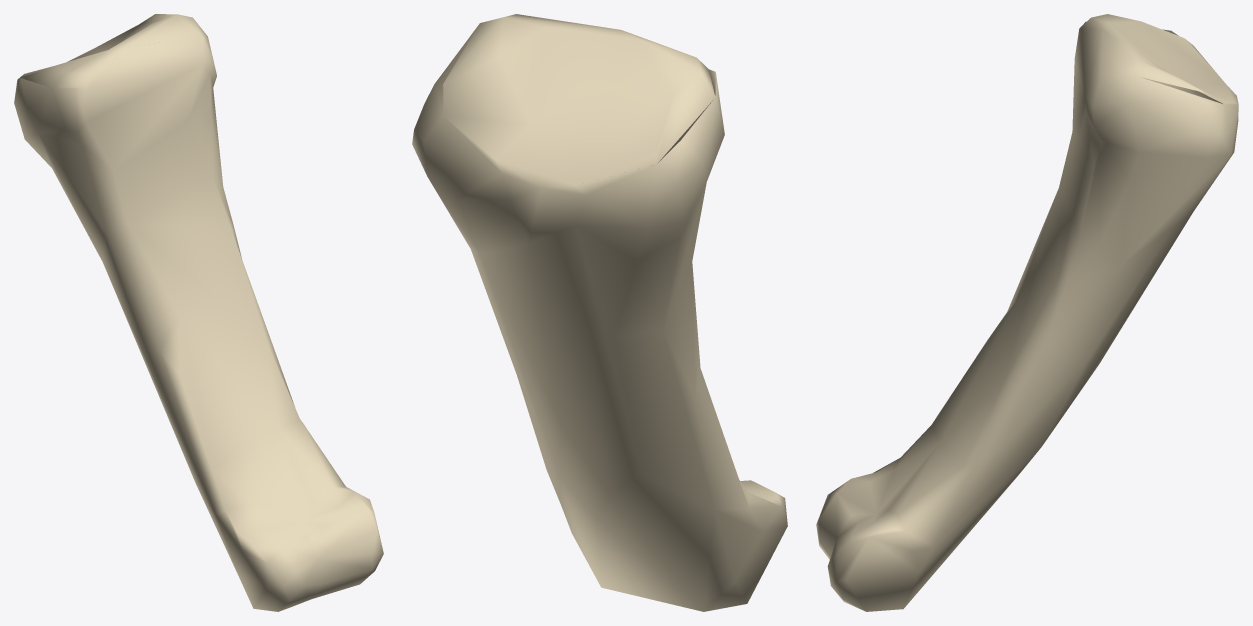
The model's file is esqueleto-proximal-phalanx-of-third-finger-of-hand-l.glb.
The picture shows the model from 3 angles, left to right: view 1: azimuth 30°, elevation 25°; view 2: azimuth 150°, elevation 25°; view 3: azimuth 270°, elevation 25°; orthographic projection. The views are drawn at different scales.
Parts seen in each view (by area): view 1: Proximal phalanx of third finger of hand.l; view 2: Proximal phalanx of third finger of hand.l; view 3: Proximal phalanx of third finger of hand.l.
Boxes of the visible parts, x1,y1,x2,y2 form: Proximal phalanx of third finger of hand.l: (14,14,383,611); Proximal phalanx of third finger of hand.l: (412,14,787,611); Proximal phalanx of third finger of hand.l: (816,14,1238,611).
Size of the model in its own units: 0.0189 by 0.0421 by 0.0302.
